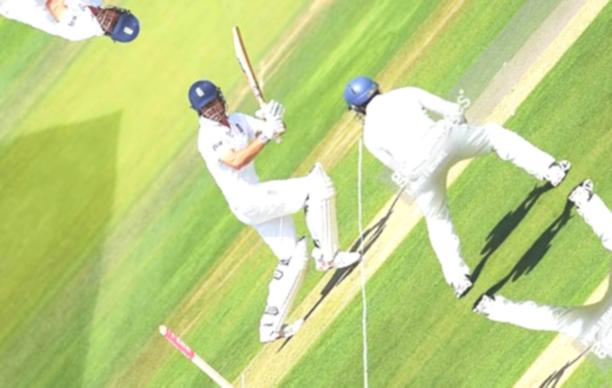batsman: (188, 33, 335, 366)
